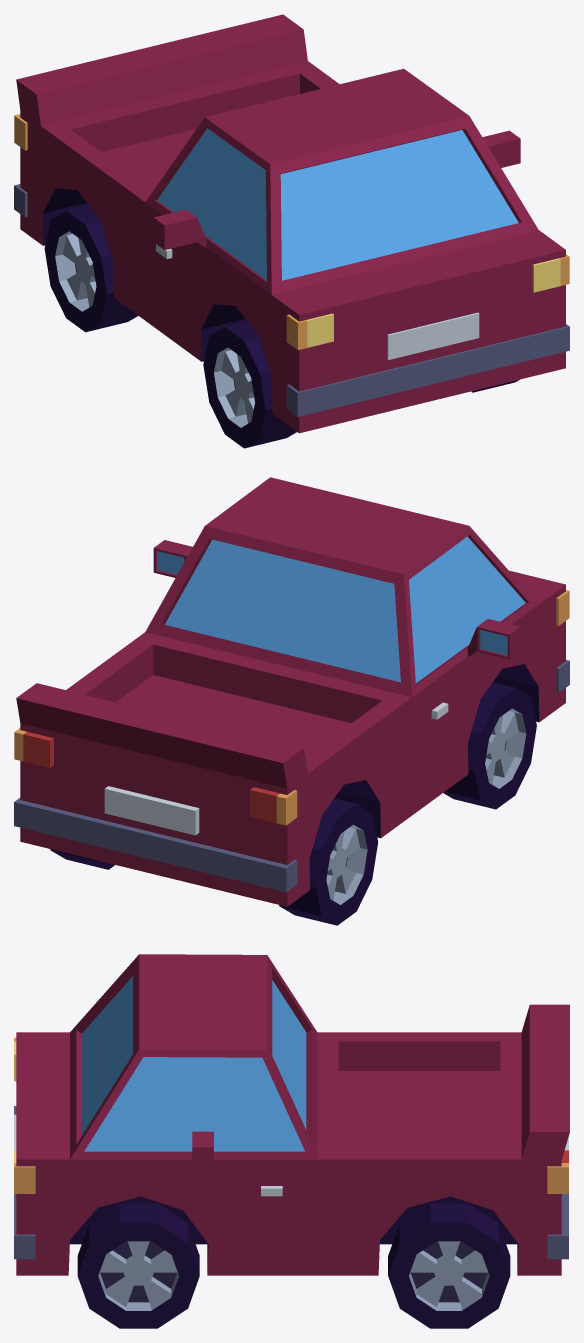
Rendered from Truck3.fbx.
3 renders of one model, top to bottom at view 1: azimuth 30°, elevation 25°; view 2: azimuth 150°, elevation 25°; view 3: azimuth 270°, elevation 25°, orthographic. The views are drawn at different scales.
Visible parts, largest first — view 1: Cube.010; view 2: Cube.010; view 3: Cube.010.
Boxes of the visible parts, x1,y1,x2,y2 form: Cube.010: [14, 14, 569, 448]; Cube.010: [14, 477, 569, 925]; Cube.010: [14, 954, 569, 1328].
Size of the model in its own units: 3.52 by 4.86 by 2.53.
1 material, 1 textured.
